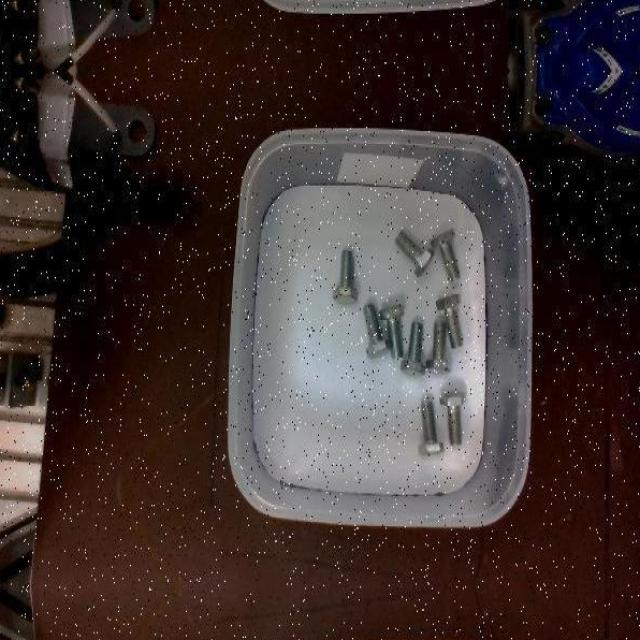screw: (394, 230, 433, 275), (430, 227, 460, 280), (362, 304, 390, 360), (435, 294, 464, 348), (439, 390, 466, 446), (400, 321, 426, 377), (425, 321, 452, 374), (418, 398, 444, 452), (380, 304, 405, 358), (333, 249, 357, 305)
